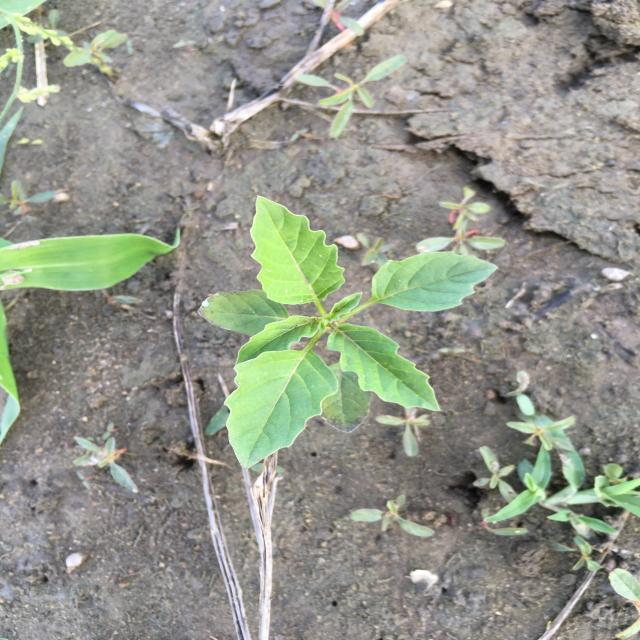CutleafGroundcherry: (196, 192, 503, 473)
Goosegrass: (469, 416, 637, 537)
Waterhemp: (289, 53, 410, 140), (503, 399, 578, 453)
